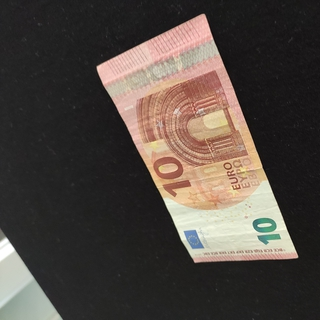10EUROFront: (95, 13, 299, 264)
